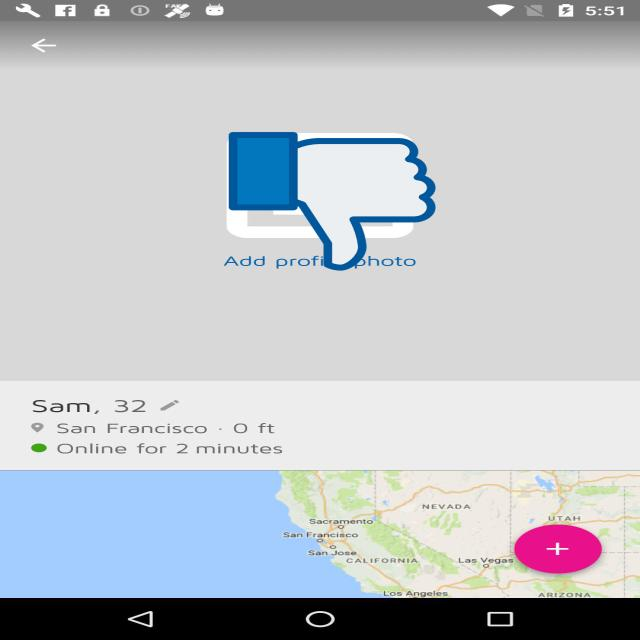obstruction: (228, 129, 436, 274)
